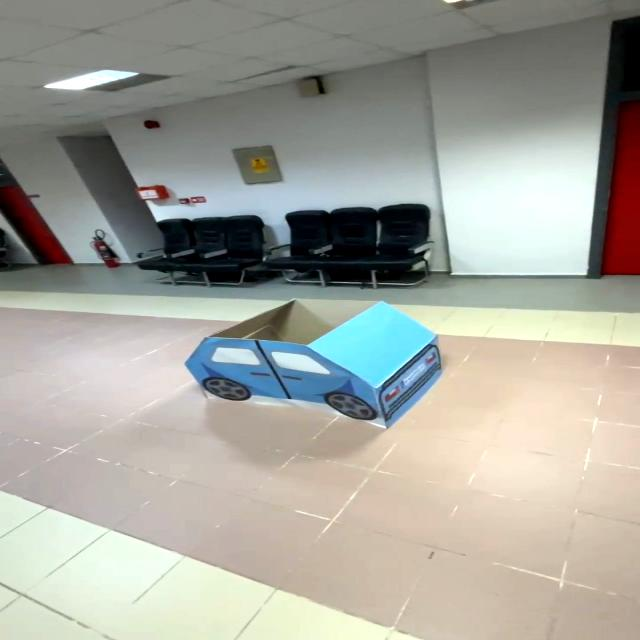blue_car: (169, 285, 488, 450)
